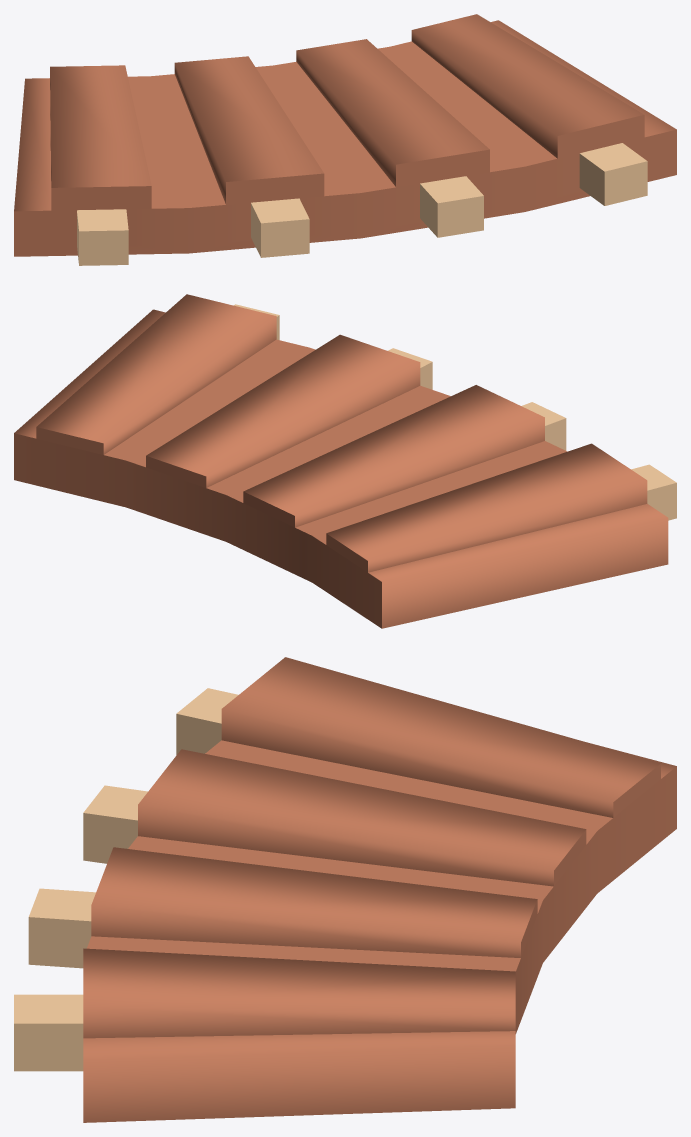
The model's file is meatRibs.GLB.
3 renders of one model, top to bottom at view 1: azimuth 30°, elevation 25°; view 2: azimuth 150°, elevation 25°; view 3: azimuth 270°, elevation 25°, orthographic. The views are drawn at different scales.
Parts seen in each view (by area): view 1: meatRibs; view 2: meatRibs; view 3: meatRibs.
Boxes of the visible parts, x1=… form: meatRibs: x1=14, y1=14, x2=676, y2=265; meatRibs: x1=14, y1=294, x2=676, y2=628; meatRibs: x1=14, y1=657, x2=676, y2=1122.
Bounding box in the file's own units: 0.5354 × 0.06 × 0.3834.
